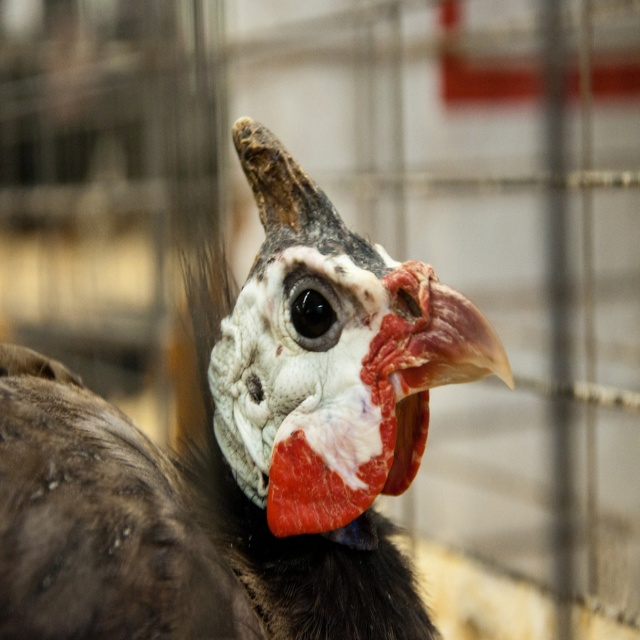Chicken: (0, 112, 518, 639)
